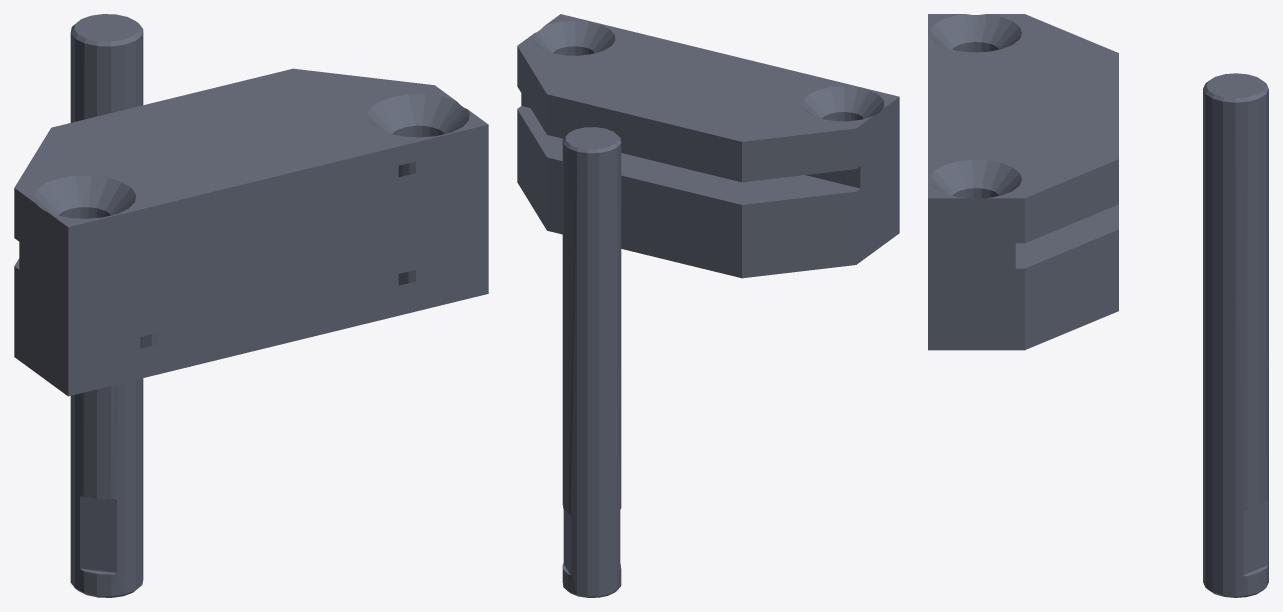
The model's file is solo_upper_leg_left_side_9.obj.
The picture shows the model from 3 angles, left to right: view 1: azimuth 30°, elevation 25°; view 2: azimuth 150°, elevation 25°; view 3: azimuth 270°, elevation 25°; orthographic projection. The views are drawn at different scales.
Bounding box in the file's own units: 0.0264 × 0.0334 × 0.0206.
